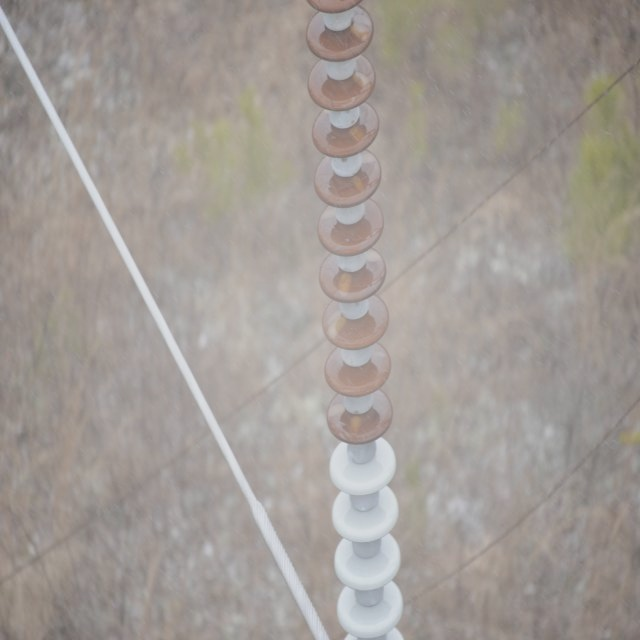insulator: (304, 0, 411, 639)
